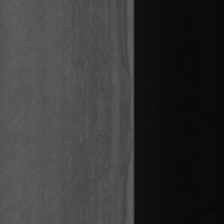silk_spot: (54, 53, 99, 145)
